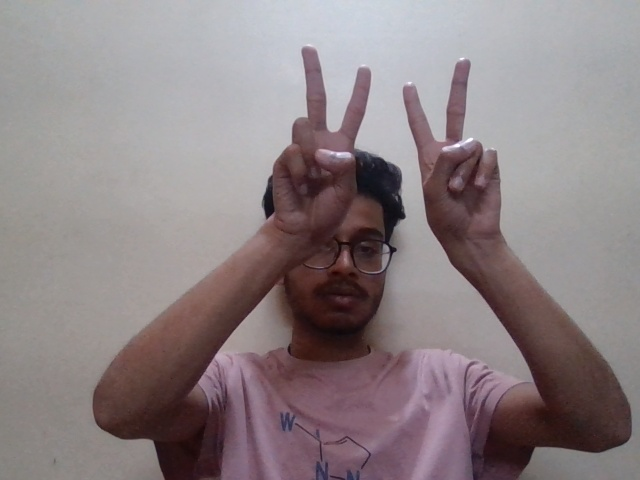take-care: (267, 41, 531, 261)
